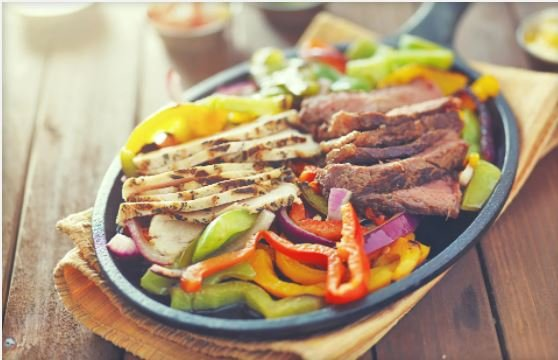pizza: (143, 3, 235, 99)
sushi: (33, 22, 522, 353)
